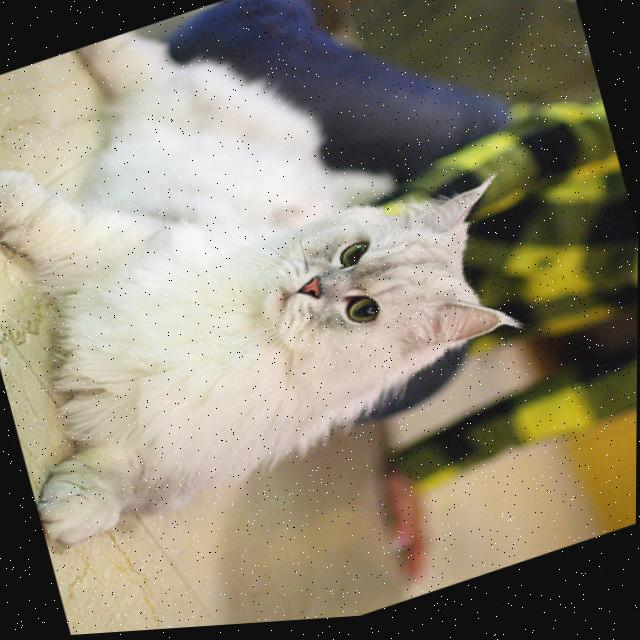Persian: (0, 0, 557, 559)
